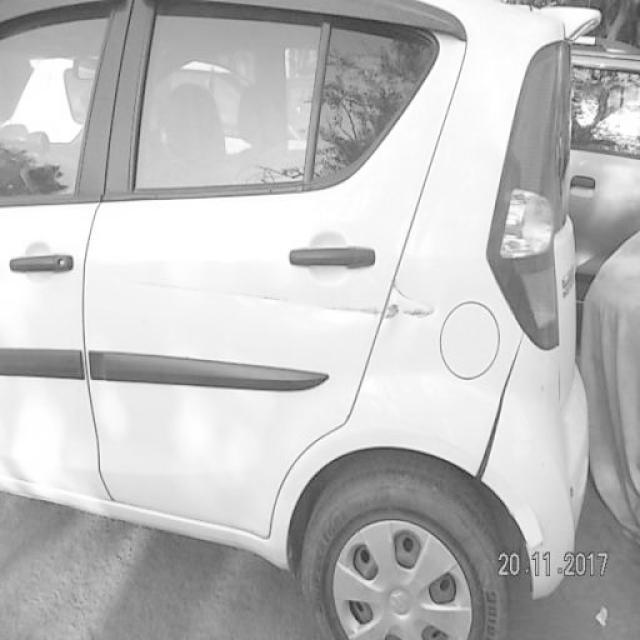car damage: (138, 282, 441, 324), (471, 336, 525, 482)
